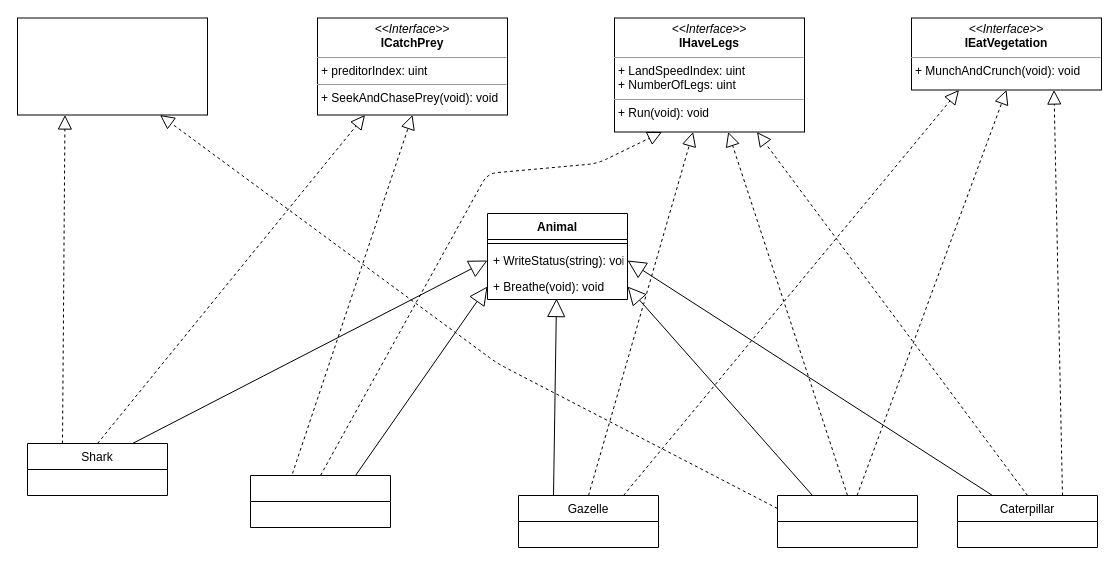
Image size: 1119x565. Some labels were removed from this diagram. Each missing label, with the centre of its shape:
<<Interface>> ICanSwim + waterSpeed: uint + Swim(void): void: [112,66]
Cheetah: [320,501]
GreenSeaTurtle: [847,521]
